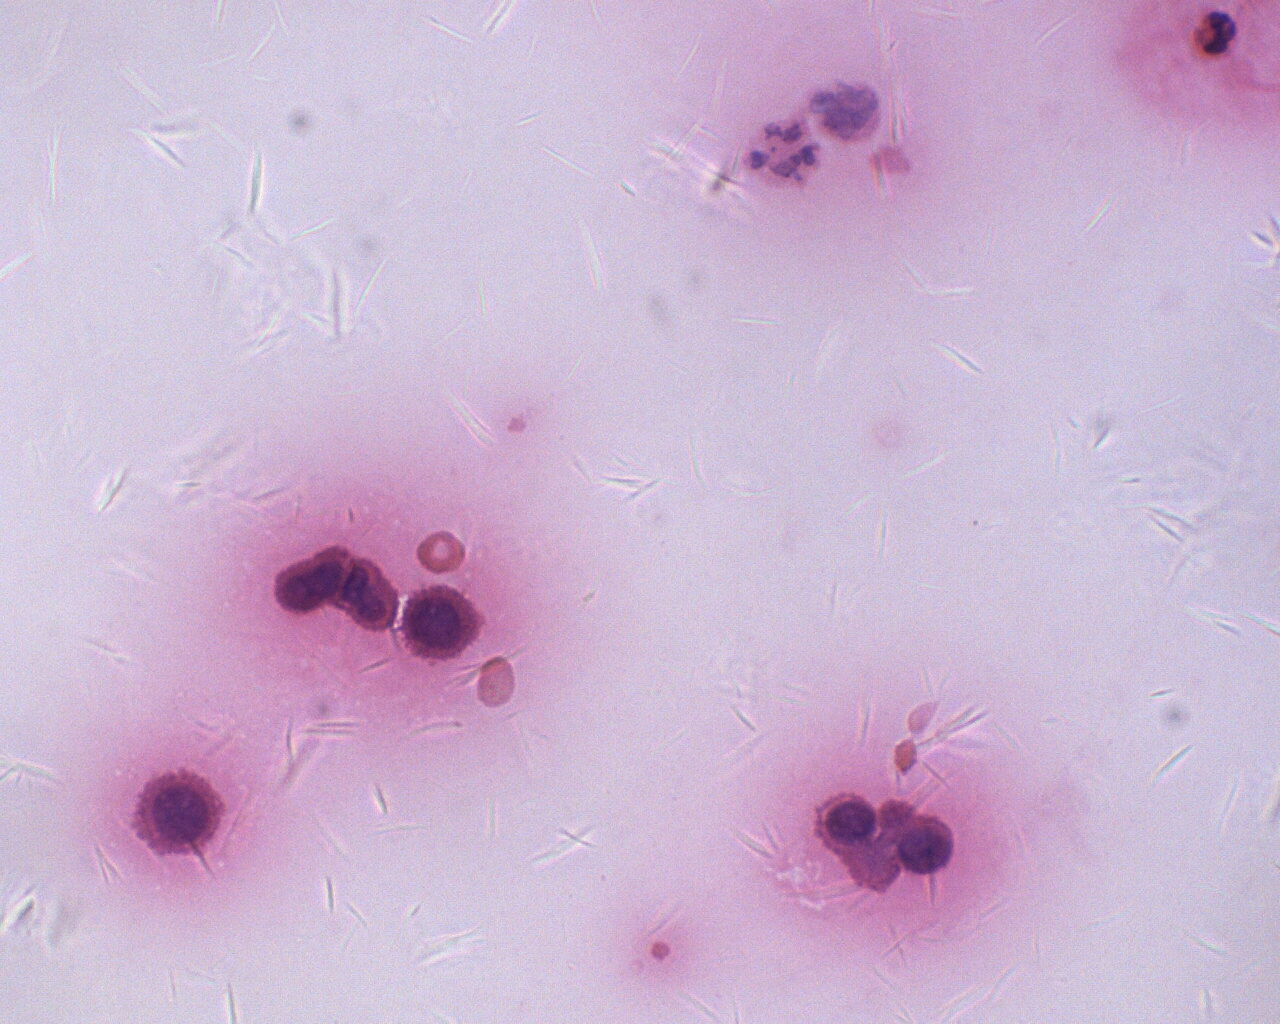ab: (130, 767, 227, 861), (400, 578, 486, 669), (267, 538, 352, 618), (817, 786, 882, 858), (891, 806, 955, 876)
